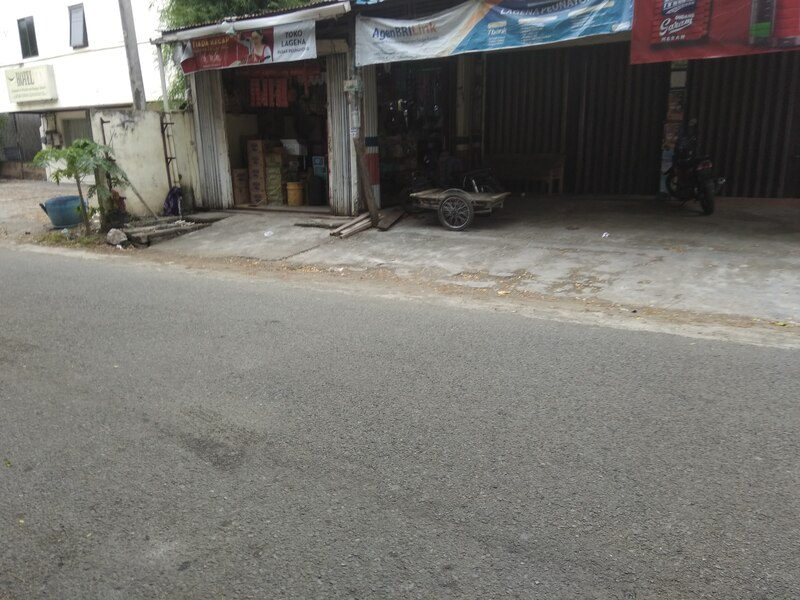becak barang: (403, 150, 531, 240)
